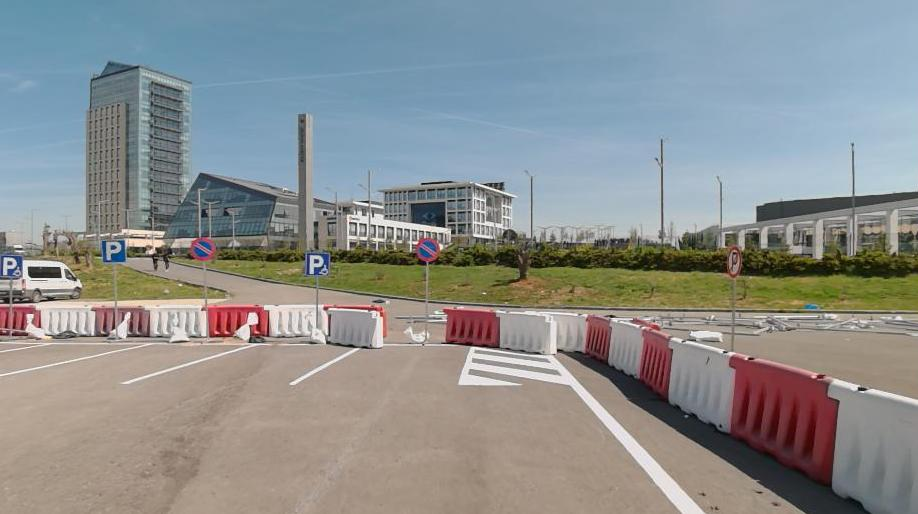nesne: (442, 306, 917, 513), (569, 381, 704, 513), (727, 351, 837, 485), (828, 379, 916, 513), (121, 340, 360, 386), (0, 341, 254, 384), (285, 344, 471, 386), (665, 335, 731, 432), (0, 340, 152, 376), (123, 343, 256, 384), (1, 342, 150, 376), (458, 345, 577, 385), (14, 260, 82, 303), (288, 345, 361, 384), (495, 310, 557, 353), (463, 361, 565, 384), (639, 326, 671, 399), (443, 307, 500, 347), (330, 308, 383, 347), (324, 305, 388, 337), (608, 318, 641, 377), (208, 303, 267, 336), (146, 304, 204, 336), (35, 304, 96, 334), (467, 352, 565, 370), (263, 302, 313, 335), (583, 314, 610, 360), (555, 312, 586, 350), (119, 304, 150, 336), (471, 347, 554, 358), (232, 312, 257, 343), (459, 371, 518, 384), (91, 304, 114, 337), (15, 304, 41, 331), (23, 313, 48, 340), (189, 237, 215, 262), (415, 236, 439, 263), (100, 238, 126, 262), (169, 314, 192, 340), (202, 264, 210, 338), (109, 312, 131, 338), (110, 263, 119, 326), (1, 342, 48, 354), (1, 253, 22, 279), (307, 315, 327, 342), (306, 253, 329, 276), (726, 246, 741, 277), (403, 326, 424, 343), (318, 302, 328, 336), (424, 264, 428, 338), (8, 282, 13, 336), (315, 276, 318, 324)
